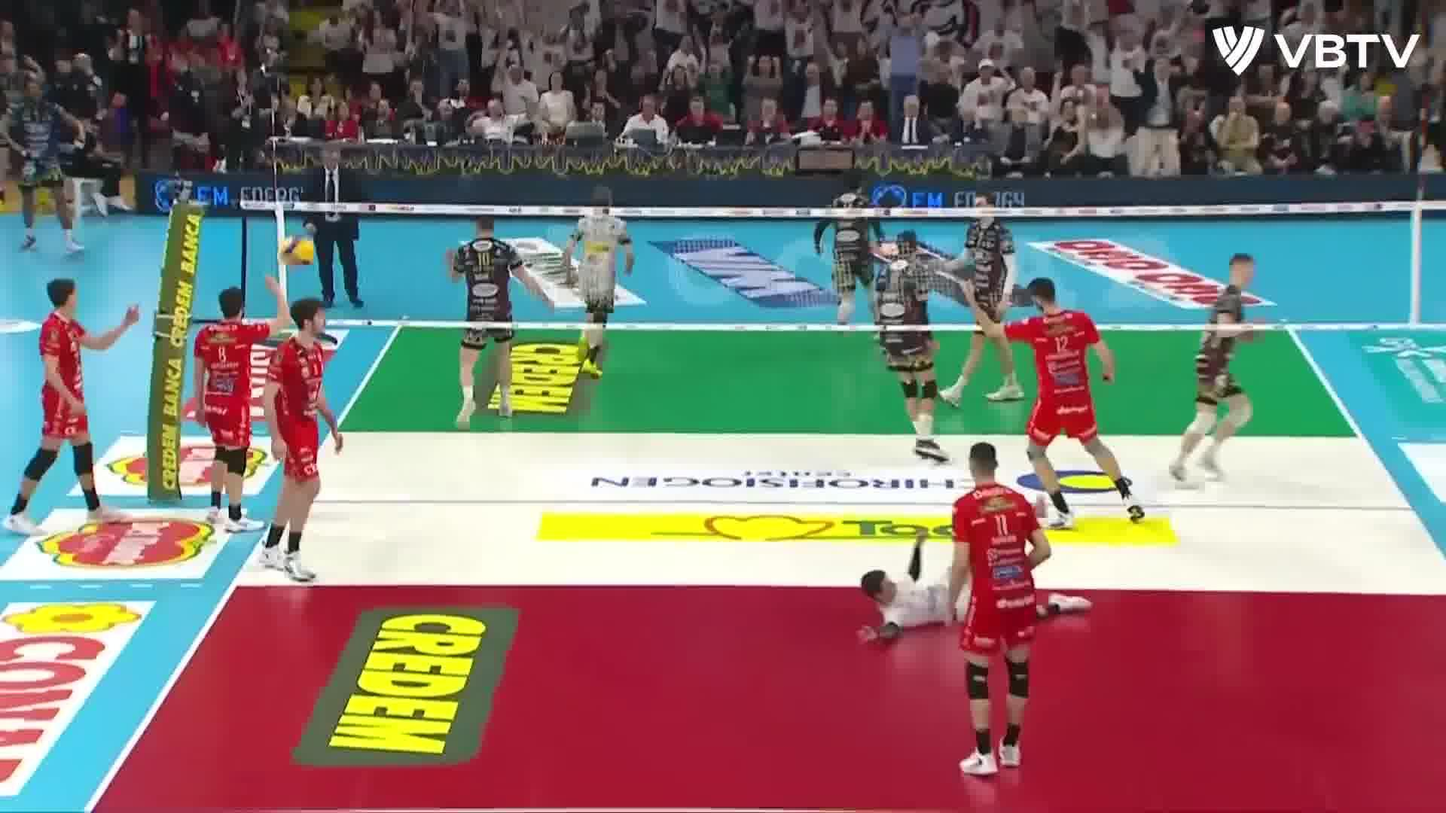balls: (283, 237, 313, 266)
